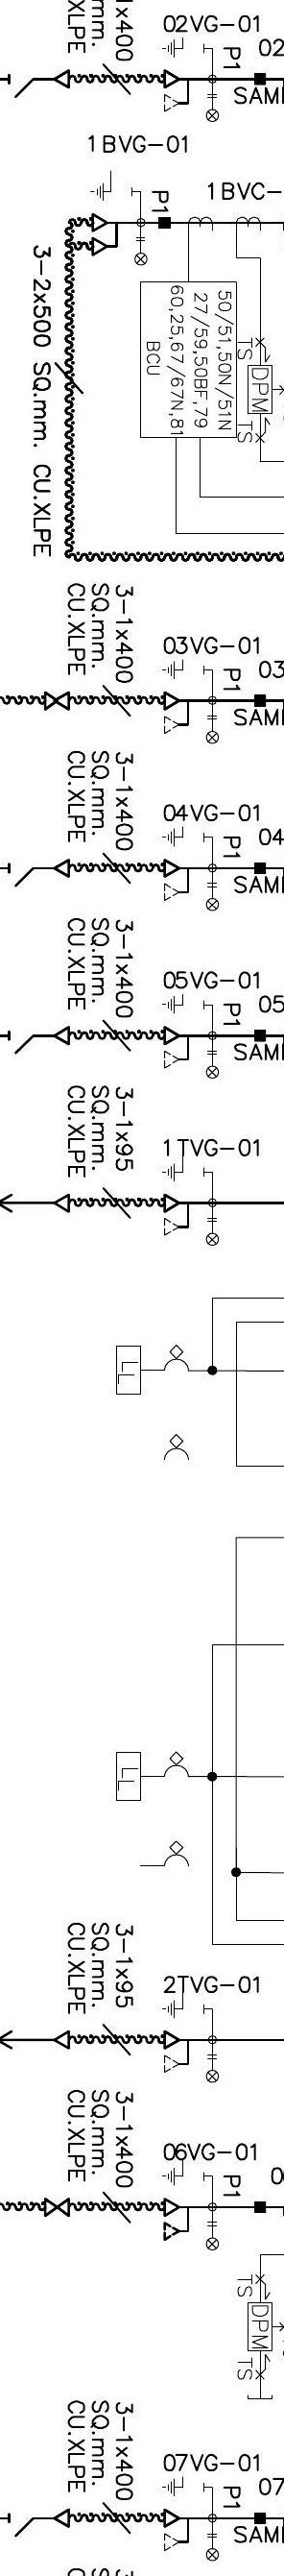22_gs: (90, 169, 135, 202), (161, 1991, 205, 2019), (161, 2160, 205, 2187), (163, 1155, 205, 1181), (163, 825, 207, 848), (163, 36, 205, 59), (163, 657, 205, 680), (163, 2476, 205, 2499), (163, 992, 205, 1014)
22_ll: (205, 94, 220, 123), (133, 237, 148, 266), (205, 715, 220, 744), (205, 882, 220, 912), (205, 1050, 220, 1079), (205, 1217, 220, 1247), (205, 2054, 220, 2083), (205, 2221, 220, 2251), (205, 2533, 220, 2563)
DPM: (246, 2302, 274, 2353), (246, 363, 274, 414)
LL: (115, 1750, 143, 1802), (115, 1344, 143, 1396)
terminator_double: (90, 212, 118, 258)
terminator_single: (53, 2507, 72, 2528), (53, 2029, 71, 2052), (53, 67, 71, 90), (53, 1025, 71, 1046), (54, 1193, 71, 1214), (54, 858, 71, 879)
terminator_splicing_kits: (43, 2197, 71, 2218), (44, 690, 71, 711)
terminator_w_future: (163, 690, 190, 736), (163, 858, 190, 904), (163, 1024, 190, 1070), (163, 1191, 190, 1237), (163, 2029, 190, 2075), (163, 69, 190, 113), (163, 2197, 190, 2241), (163, 2509, 190, 2553)
